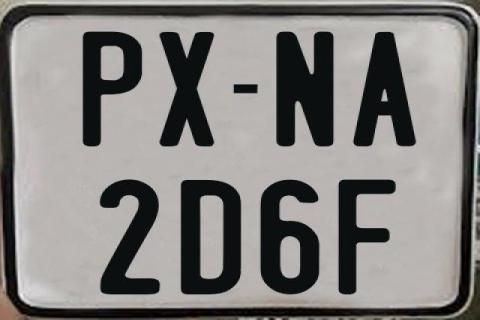0: (258, 178, 323, 298), (97, 177, 159, 297)
A: (350, 31, 415, 149)
D: (182, 179, 244, 293)
F: (338, 178, 400, 294)
N: (273, 30, 331, 146)
P: (84, 29, 146, 147)
X: (156, 30, 214, 148)
